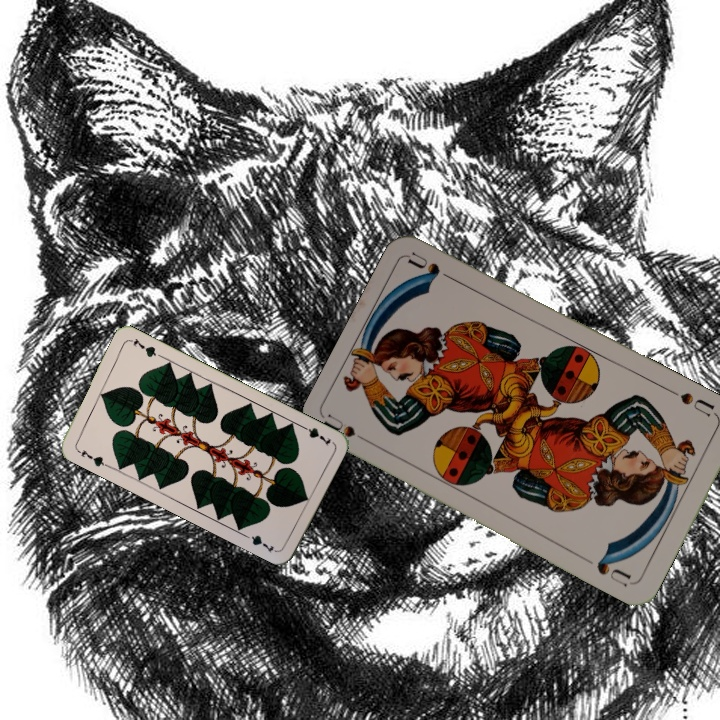G7: (296, 421, 334, 448), (73, 445, 110, 469)
SU: (321, 410, 378, 449), (666, 386, 717, 419)
